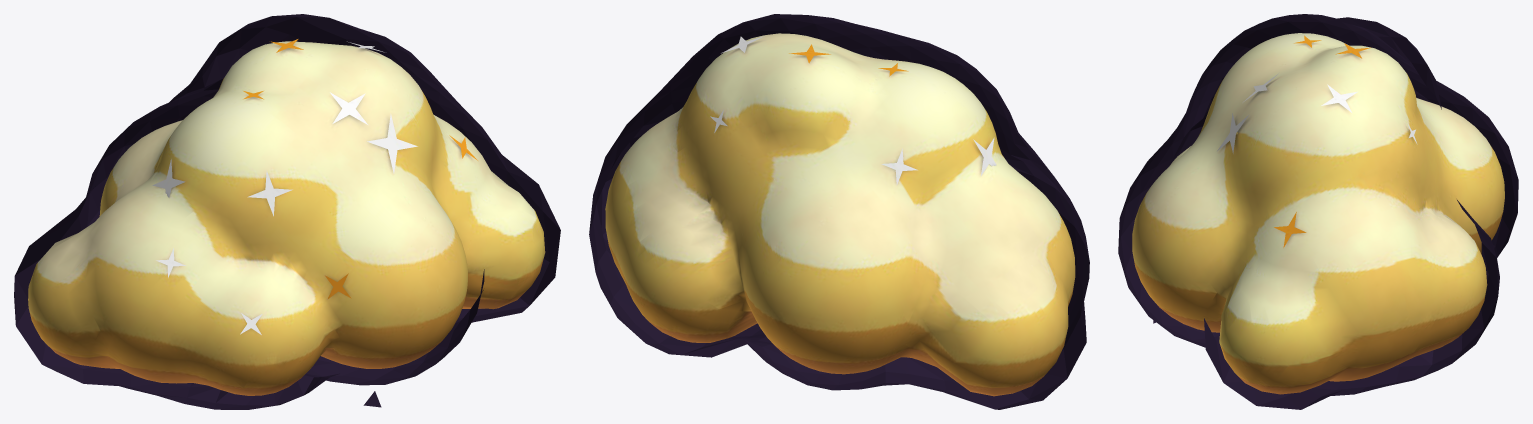
Rendered from SoftenerPuff_Gold.glb.
The picture shows the model from 3 angles, left to right: view 1: azimuth 30°, elevation 25°; view 2: azimuth 150°, elevation 25°; view 3: azimuth 270°, elevation 25°; orthographic projection. The views are drawn at different scales.
Parts seen in each view (by area): view 1: SoftenerPuff_Gold, SoftenerPuff_Gold_Outline; view 2: SoftenerPuff_Gold, SoftenerPuff_Gold_Outline; view 3: SoftenerPuff_Gold, SoftenerPuff_Gold_Outline.
Boxes of the visible parts, box(x1,y1,x2,y2) form: SoftenerPuff_Gold: box(28, 39, 545, 395); SoftenerPuff_Gold_Outline: box(14, 14, 560, 409); SoftenerPuff_Gold: box(605, 33, 1075, 396); SoftenerPuff_Gold_Outline: box(589, 14, 1089, 409); SoftenerPuff_Gold: box(1132, 33, 1504, 394); SoftenerPuff_Gold_Outline: box(1118, 14, 1518, 409).
Size of the model in its own units: 3.4 by 2.09 by 2.5.
Materials: 2 (2 with a texture image).
